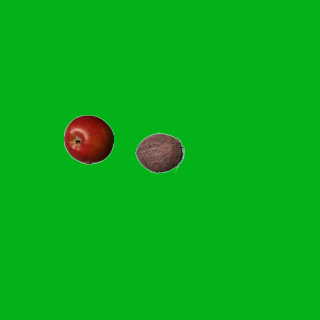Apple Braeburn: (63, 114, 113, 164)
Cocos: (134, 127, 184, 177)
